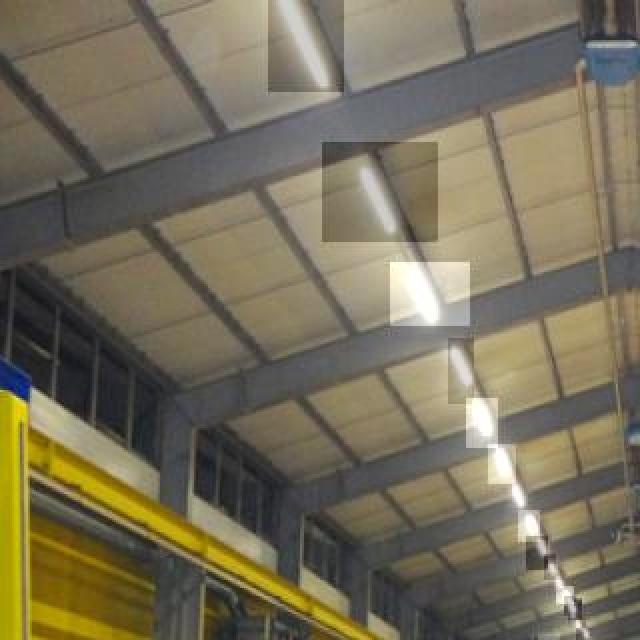fluorescent tube: (264, 4, 338, 91), (347, 147, 402, 233), (391, 264, 449, 331), (482, 441, 516, 483), (467, 391, 491, 447), (446, 351, 477, 387)
